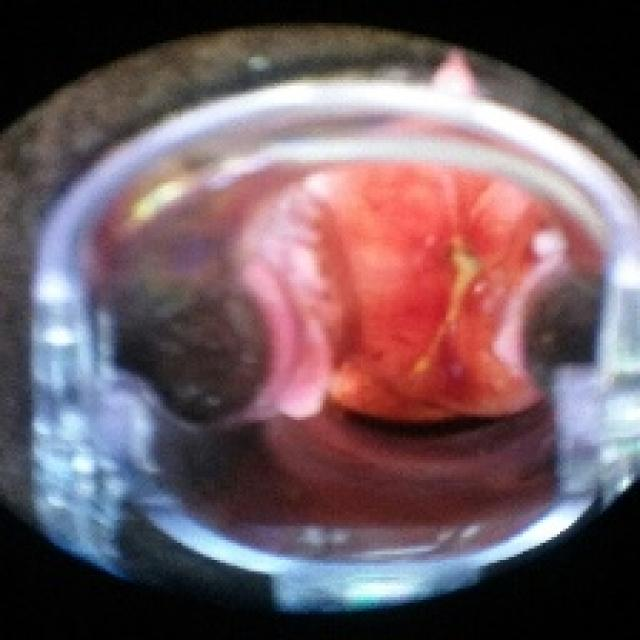type-3: (11, 57, 589, 539)
